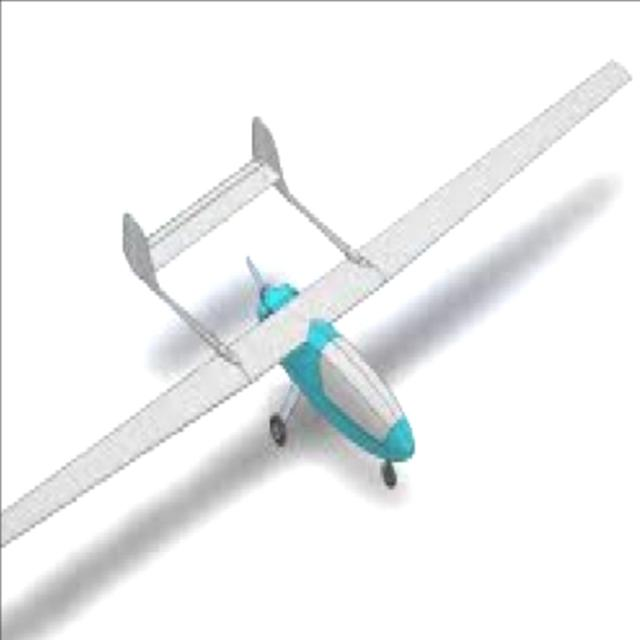plane: (0, 53, 635, 564)
